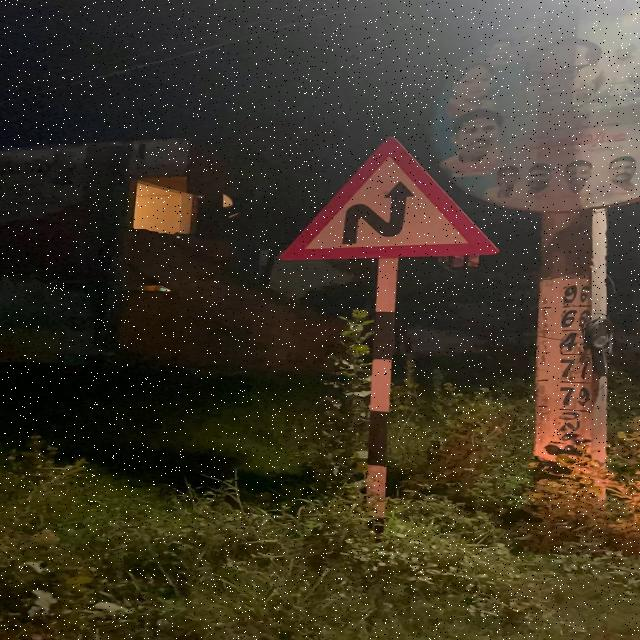Doublecurve_First to right: (280, 133, 490, 256)
